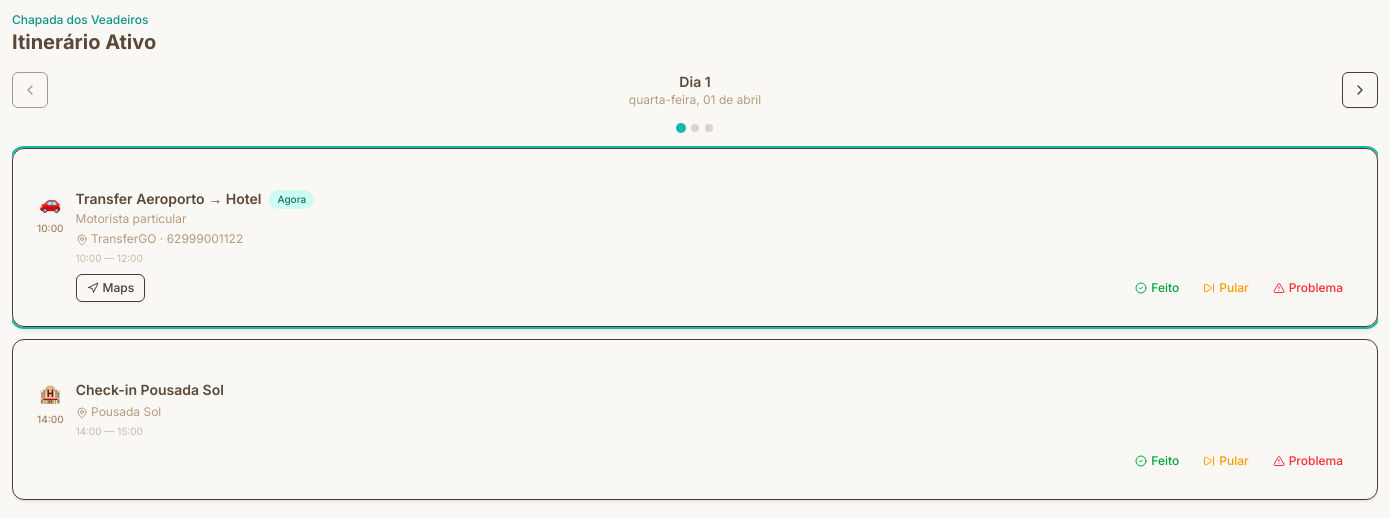
Scenario: LiveItinerary › navigates to next day
The width and height of the screenshot is (1390, 518).
expect the text with test id "day-label" reads "Dia 1": met, box [679,73,711,90]
Click the button with test id "next-day". click: point(1360, 90)
box: [1342,72,1378,108]
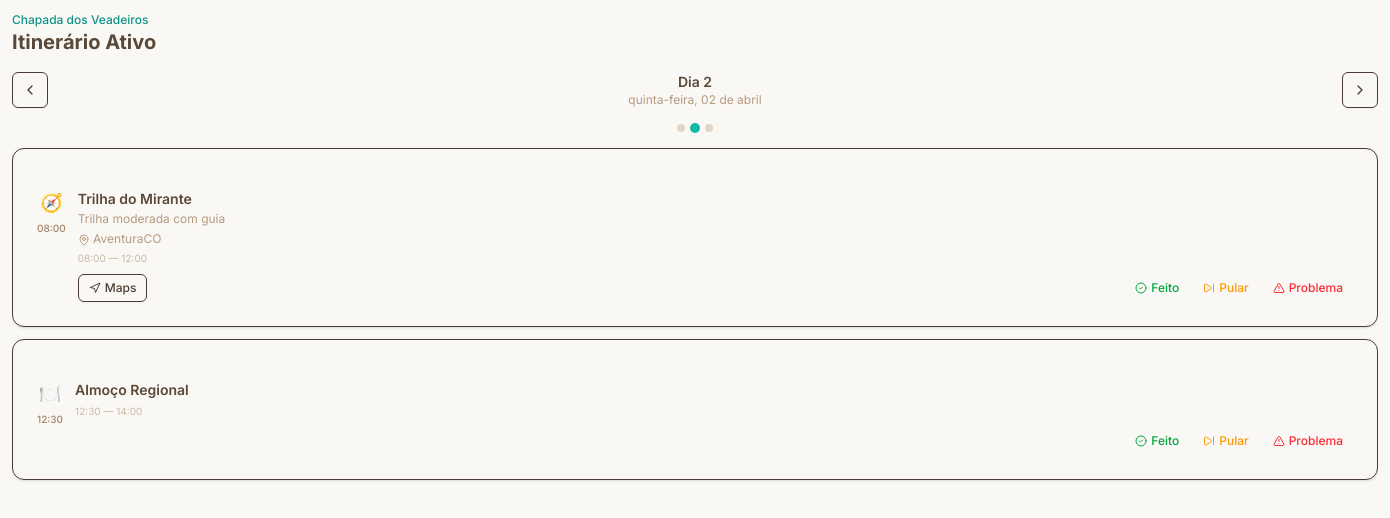
expect the text with test id "day-label" reads "Dia 2": met, box [678,73,712,90]
